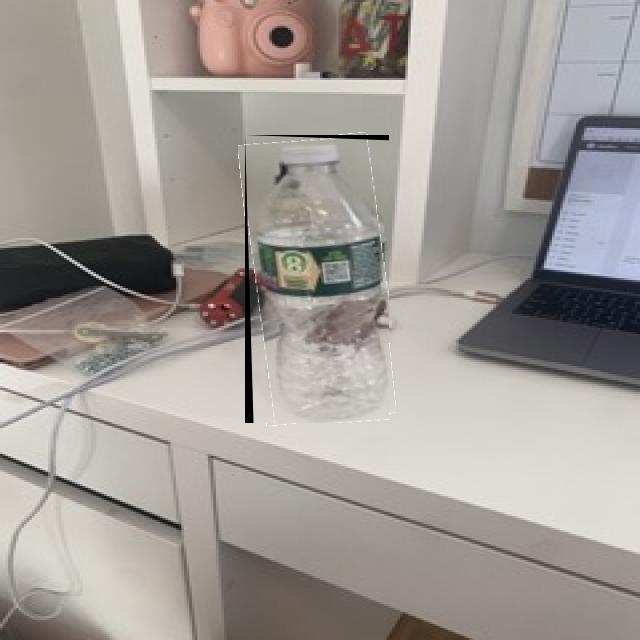water_bottle: (245, 135, 389, 423)
